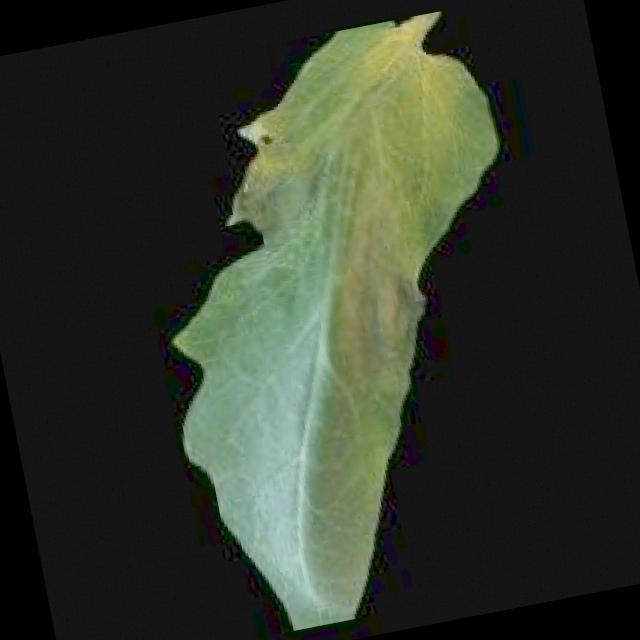Tomato late blight leaf: (107, 3, 578, 640)
